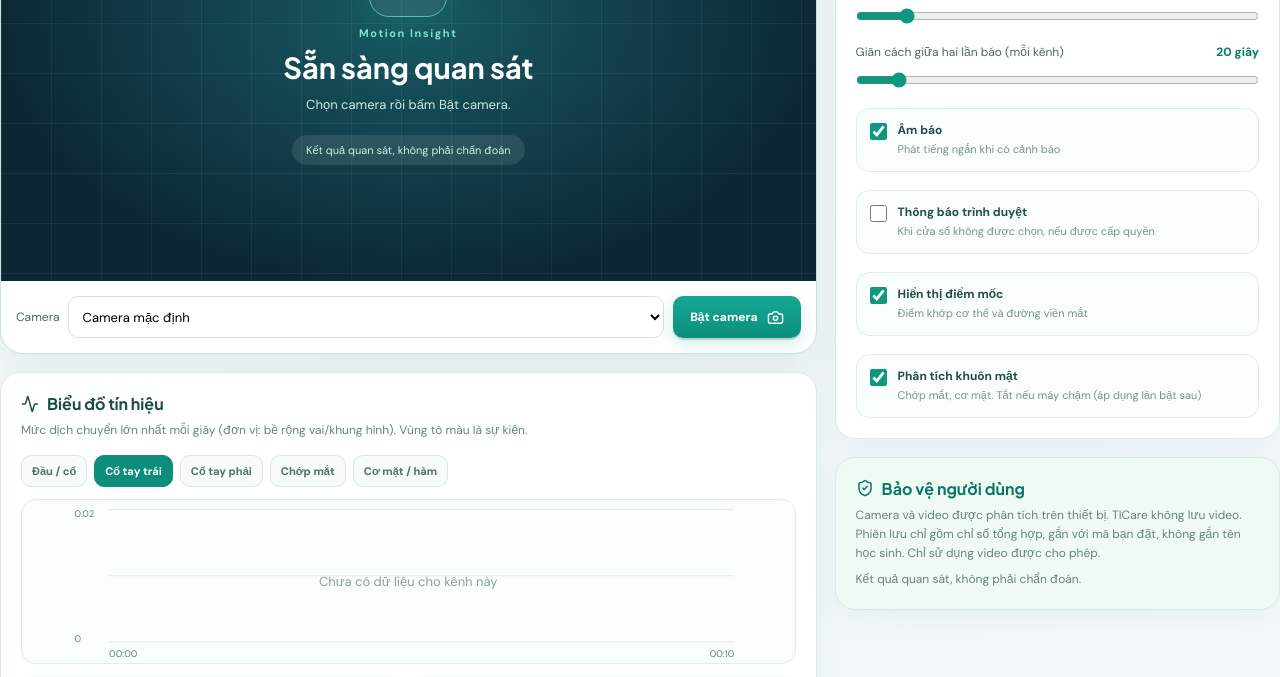
Test: Motion: camera lifecycle (T4.1) › maps getUserMedia errors to specific guidance
The image size is (1280, 677).
(page scrolled)
Click the button "Bật camera" at (737, 317), box top-left (673, 296), bottom-right (801, 338)
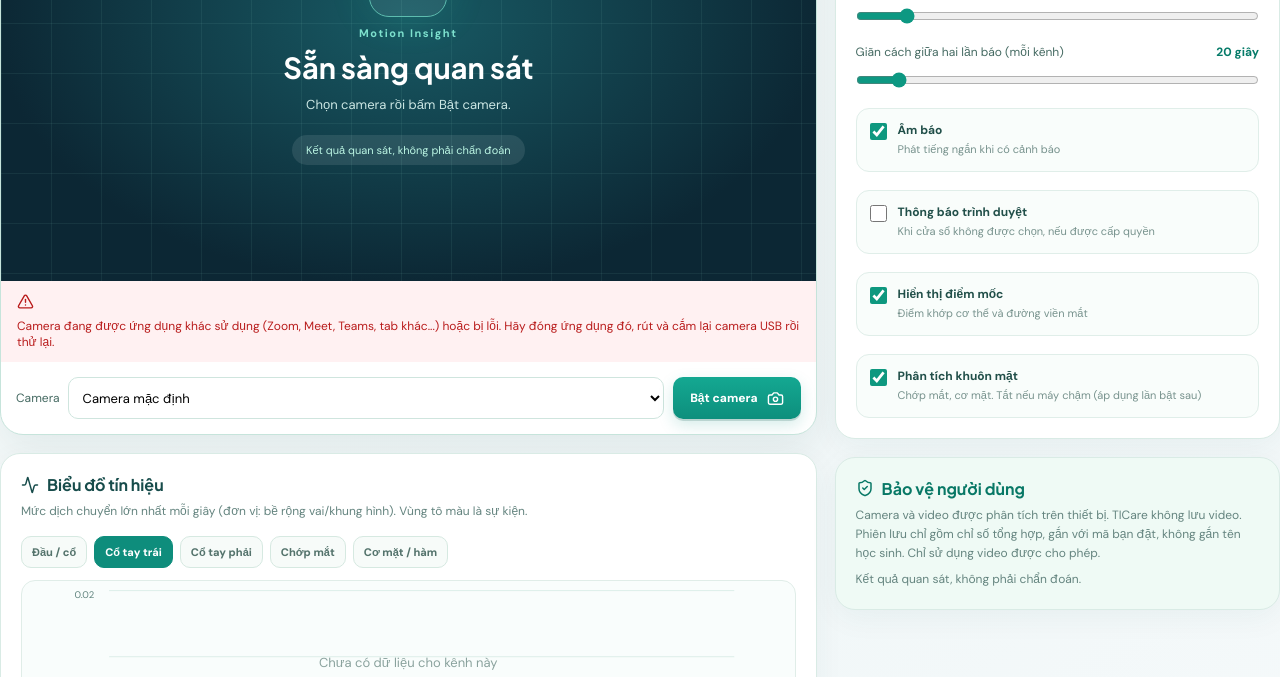
Result: the text "đang được ứng dụng khác sử dụng" is shown at top-left (17, 318), bottom-right (799, 350)
